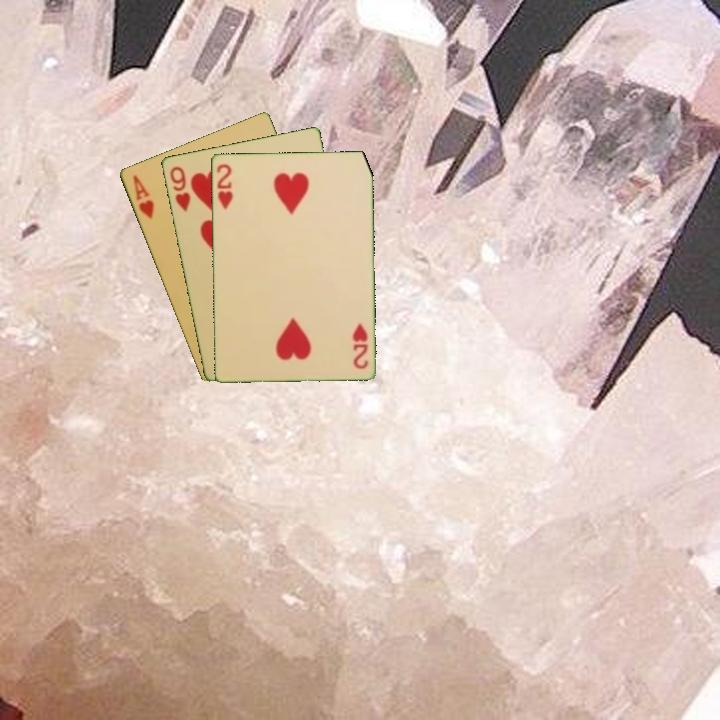2h: (213, 160, 235, 212), (349, 319, 371, 371)
9h: (166, 162, 193, 215)
Ah: (129, 171, 157, 222)
